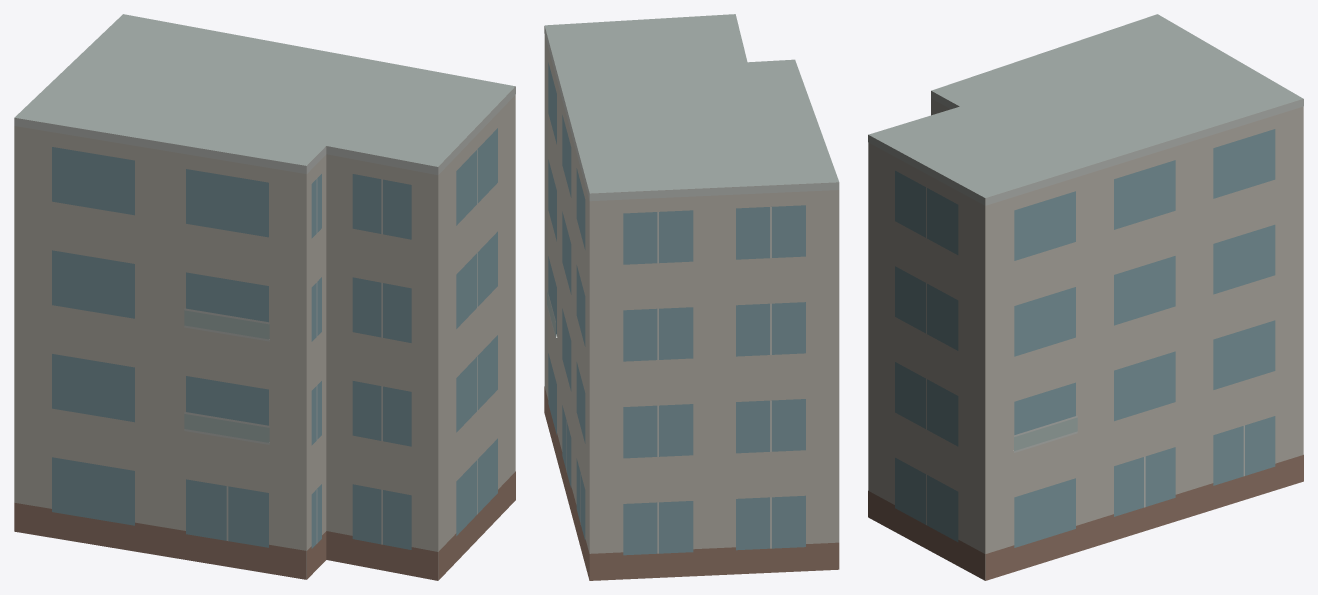
File: survey-upis-32707235.glb
The picture shows the model from 3 angles, left to right: view 1: azimuth 30°, elevation 25°; view 2: azimuth 150°, elevation 25°; view 3: azimuth 270°, elevation 25°; orthographic projection. The views are drawn at different scales.
Visible parts, largest first — view 1: survey-upis-32707235.tmp; view 2: survey-upis-32707235.tmp; view 3: survey-upis-32707235.tmp.
Part boxes in pixels (<box>): survey-upis-32707235.tmp: <box>14,14,515,580</box>; survey-upis-32707235.tmp: <box>544,14,839,580</box>; survey-upis-32707235.tmp: <box>868,14,1303,580</box>.
Bounding box in the file's own units: 12.6 × 12.2 × 12.59.
